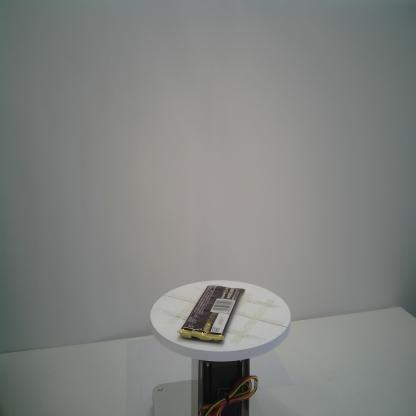Chocolate: (176, 284, 246, 344)
